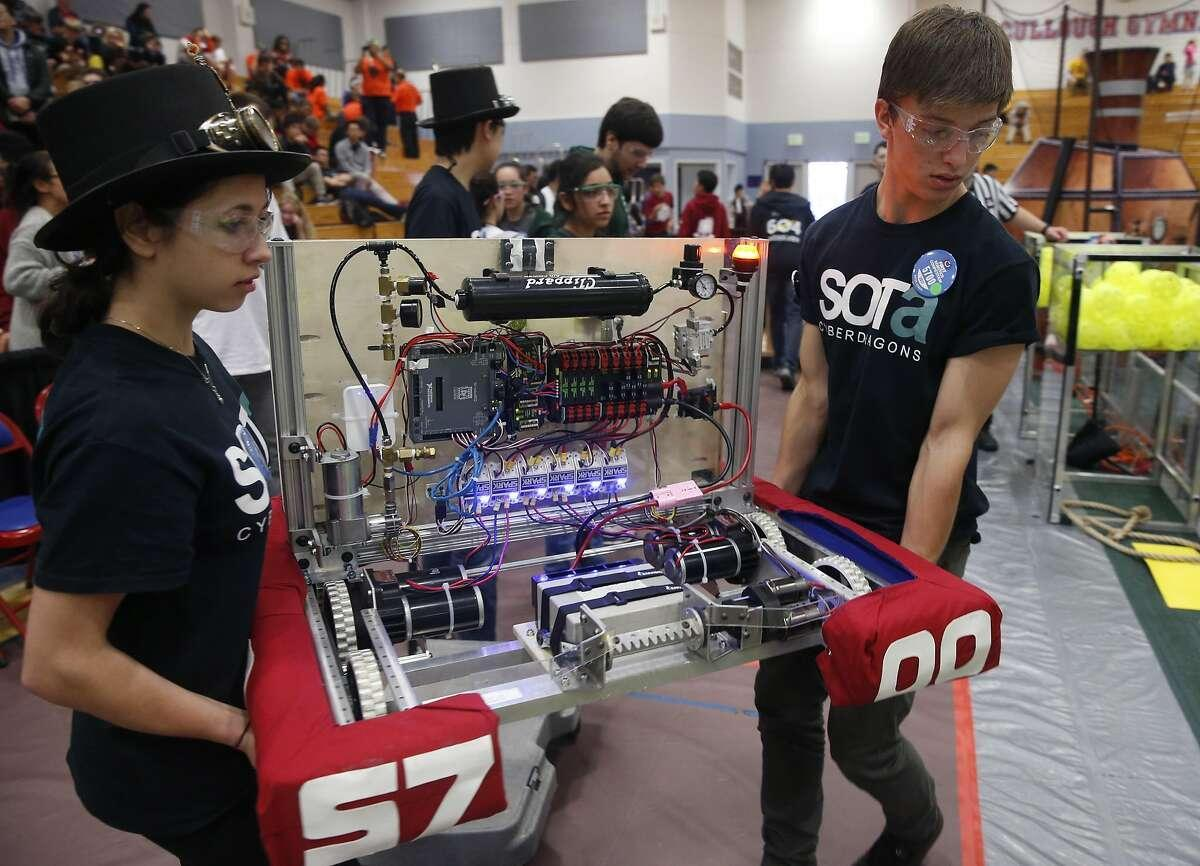robot: (236, 232, 1009, 866)
